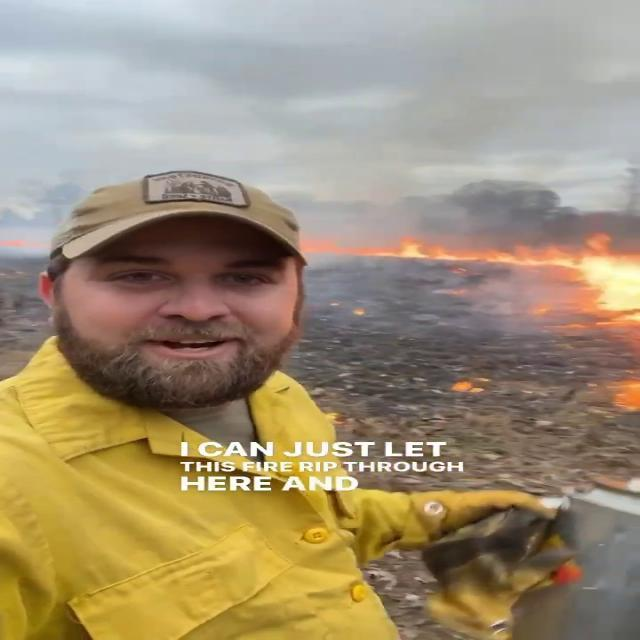Smoke: (369, 226, 632, 269), (558, 230, 640, 337)
